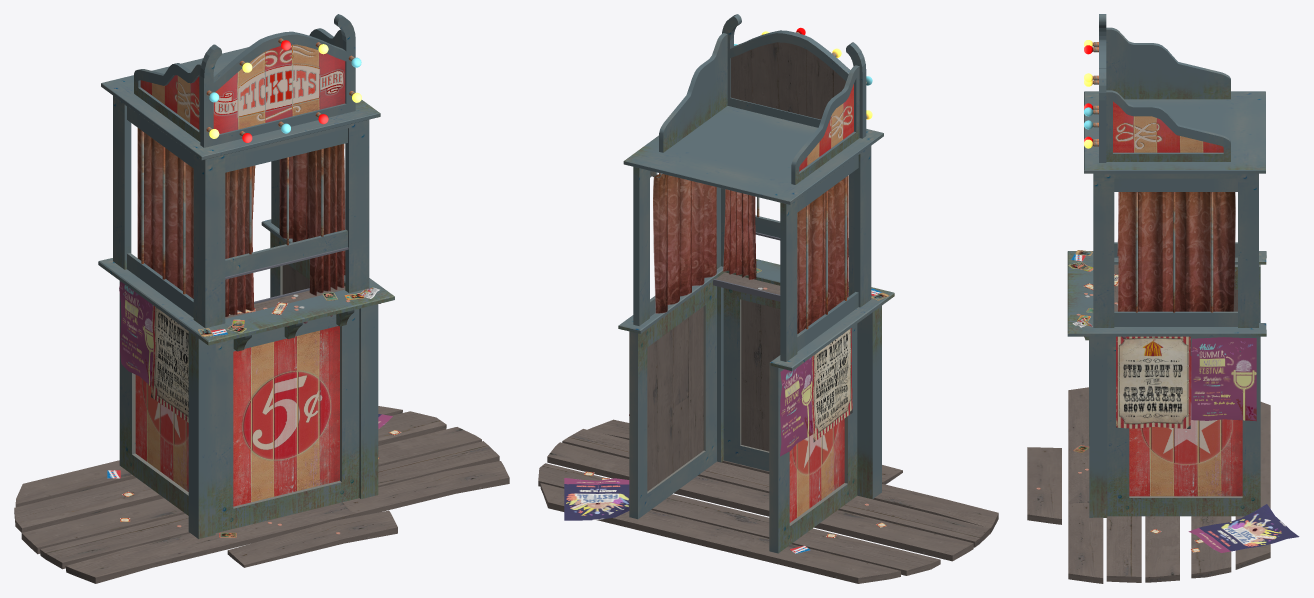
3 renders of one model, left to right at view 1: azimuth 30°, elevation 25°; view 2: azimuth 150°, elevation 25°; view 3: azimuth 270°, elevation 25°, orthographic. The views are drawn at different scales.
Parts seen in each view (by area): view 1: pCube1, pCube12, pCube26, pCube33, pCube31, pTorus19, pCube29, pCube32, pCube3, pCube34, pCube35, pCube20 (+17 smaller); view 2: pCube30, pCube20, pCube26, pCube31, pCube12, pCube1, pTorus20, pCube34, pCube36, pCube35, pTorus19, pCube29 (+14 smaller); view 3: pCube30, pTorus20, pCube20, pCube12, pPlane7, pCube25, pCube67, pPlane11, pCube33, pCube3, pCube2, pPlane9 (+9 smaller).
Boxes of the visible parts, bbox=[...] form: pCube1: bbox=[215, 309, 359, 532]; pCube12: bbox=[113, 95, 369, 328]; pCube26: bbox=[200, 14, 355, 147]; pCube33: bbox=[65, 461, 509, 583]; pCube31: bbox=[119, 281, 188, 515]; pTorus19: bbox=[137, 128, 193, 298]; pCube29: bbox=[40, 441, 499, 569]; pCube32: bbox=[188, 331, 215, 538]; pCube3: bbox=[98, 219, 394, 345]; pCube34: bbox=[21, 427, 481, 554]; pCube35: bbox=[14, 411, 446, 532]; pCube20: bbox=[101, 47, 380, 160]; pCube30: bbox=[629, 281, 716, 519]; pCube20: bbox=[623, 106, 883, 204]; pCube26: bbox=[722, 14, 866, 138]; pCube31: bbox=[769, 324, 857, 553]; pCube12: bbox=[633, 146, 871, 361]; pCube1: bbox=[723, 288, 780, 471]; pTorus20: bbox=[650, 171, 716, 313]; pCube34: bbox=[547, 442, 973, 561]; pCube36: bbox=[540, 483, 900, 583]; pCube35: bbox=[538, 463, 940, 575]; pTorus19: bbox=[797, 175, 848, 333]; pCube29: bbox=[562, 429, 990, 547]; pCube30: bbox=[1107, 336, 1260, 516]; pTorus20: bbox=[1117, 192, 1235, 311]; pCube20: bbox=[1084, 91, 1265, 173]; pCube12: bbox=[1093, 173, 1258, 327]; pPlane7: bbox=[1116, 336, 1190, 428]; pCube25: bbox=[1106, 90, 1230, 161]; pCube67: bbox=[1106, 27, 1230, 99]; pPlane11: bbox=[1191, 337, 1256, 421]; pCube33: bbox=[1068, 387, 1103, 583]; pCube3: bbox=[1067, 251, 1266, 336]; pCube2: bbox=[1089, 336, 1107, 517]; pPlane9: bbox=[1188, 504, 1299, 552].
Size of the model in its own units: 0.08 by 0.0846 by 0.047.
Materials: 8 (7 with a texture image).
